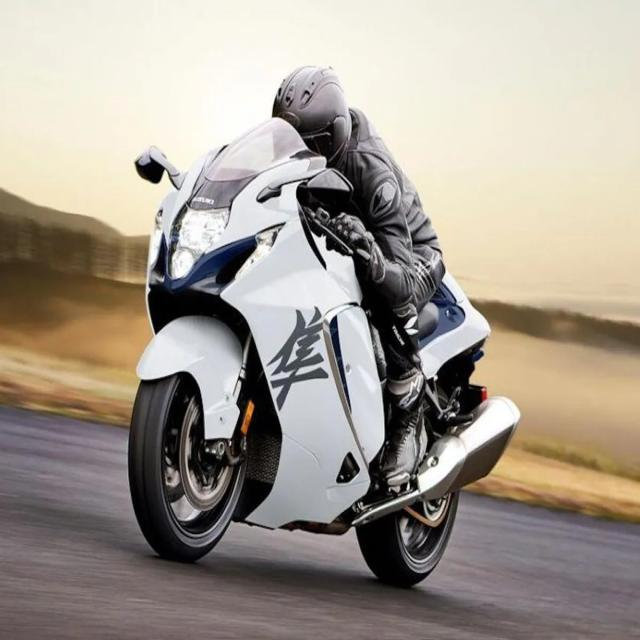Bike: (126, 119, 521, 590)
